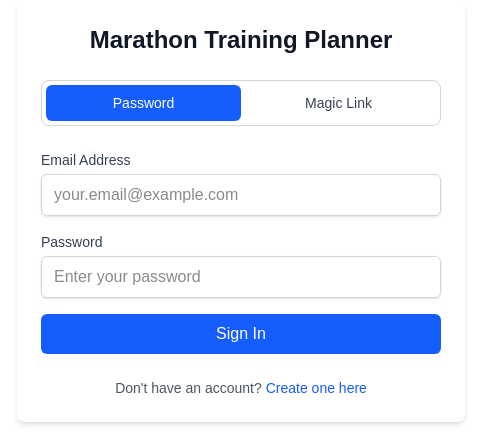
Test case: LoginForm › Magic Link Mode › shows loading state during magic link form submission
Click the button "Magic Link". click: (338,103)
box: x1=241 y1=85 x2=436 y2=121
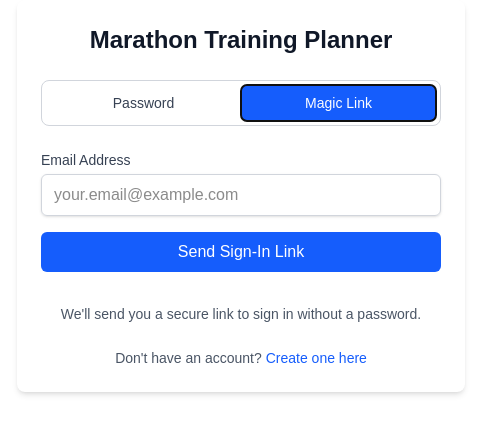
Type "test@example.com" into the field labelled "Email Address". click: (241,195)
box: x1=41 y1=174 x2=441 y2=216
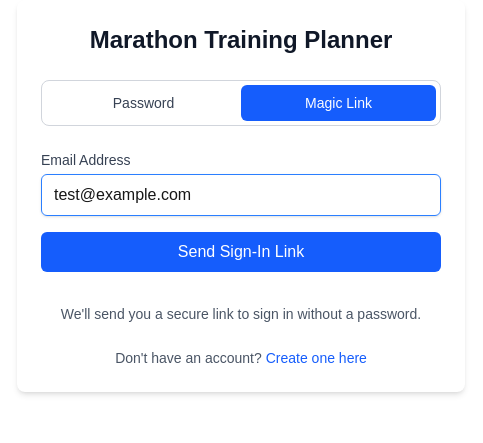
Click the button "Send Sign-In Link". click: (241,252)
box: x1=41 y1=232 x2=441 y2=272
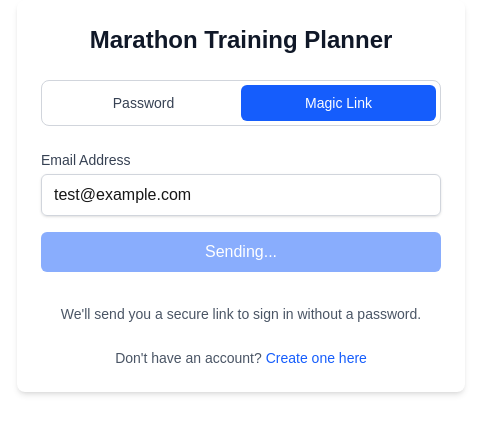
Expected: the button "Sending..." is disabled, x1=41 y1=232 x2=441 y2=272
